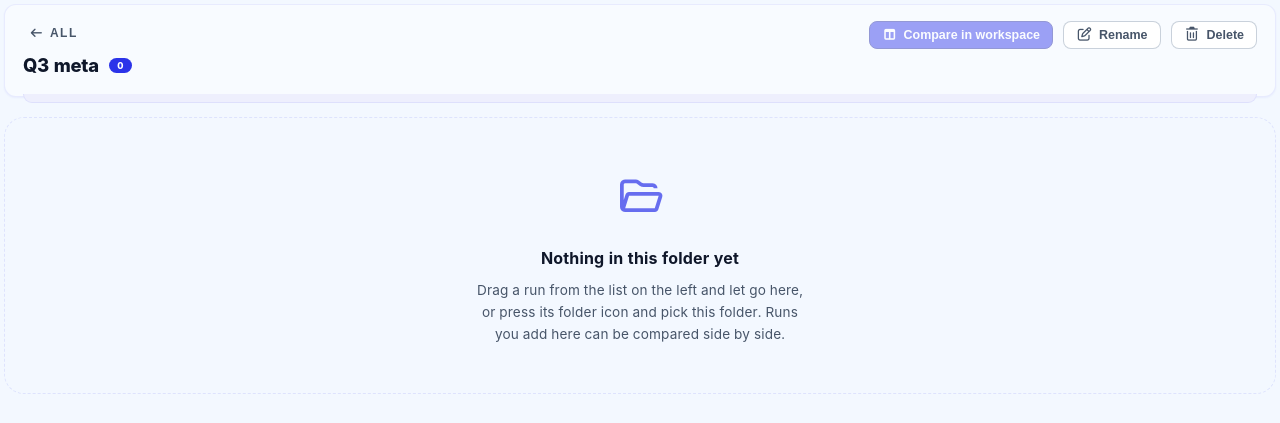
Test: ExperimentFolderComponent › renames the folder through the service
The image size is (1280, 423).
Step 1. Click the button with class "folder-form-action" showing "Rename" → [1112, 35], box [1063,21,1160,49]
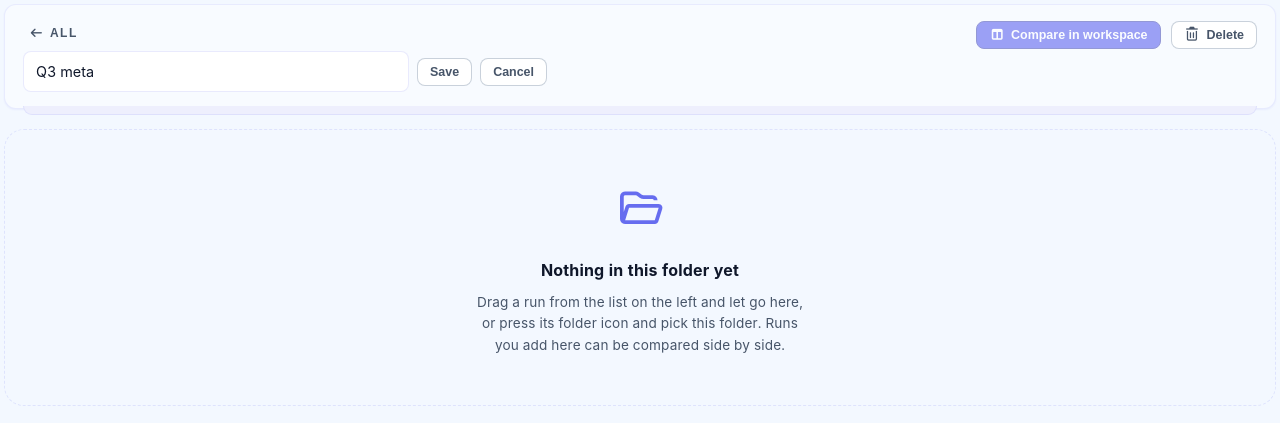
Step 2. Replace the text in the field with class "folder-rename-input" with "ANOVA sensitivity" → [216, 72], box [23,51,409,92]
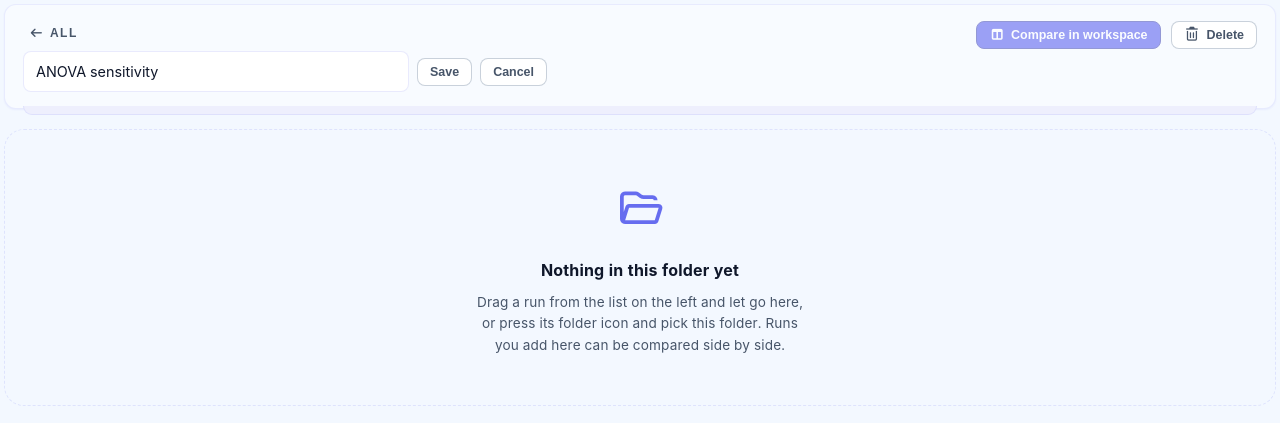
Step 3. Click the button with class "folder-form-action" showing "Save" → [445, 72], box [417,58,472,86]
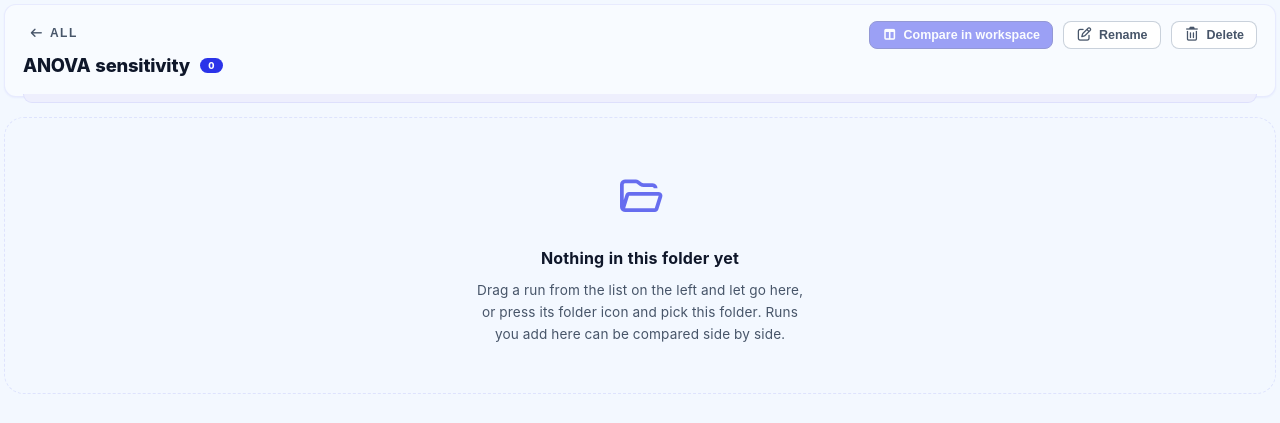
expect the heading "ANOVA sensitivity" is shown: met, box [23,51,190,80]
expect the heading with class "folder-title" reads "ANOVA sensitivity": met, box [23,54,190,76]
